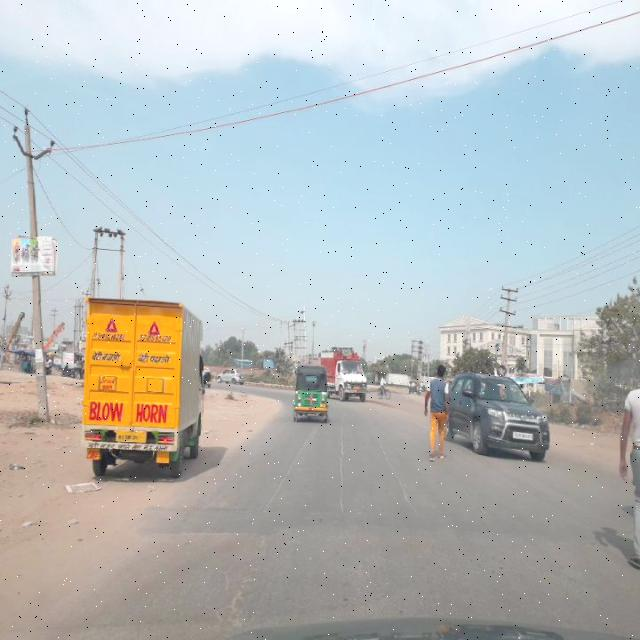D00: (336, 422, 412, 511), (263, 425, 317, 514), (211, 546, 264, 636)
